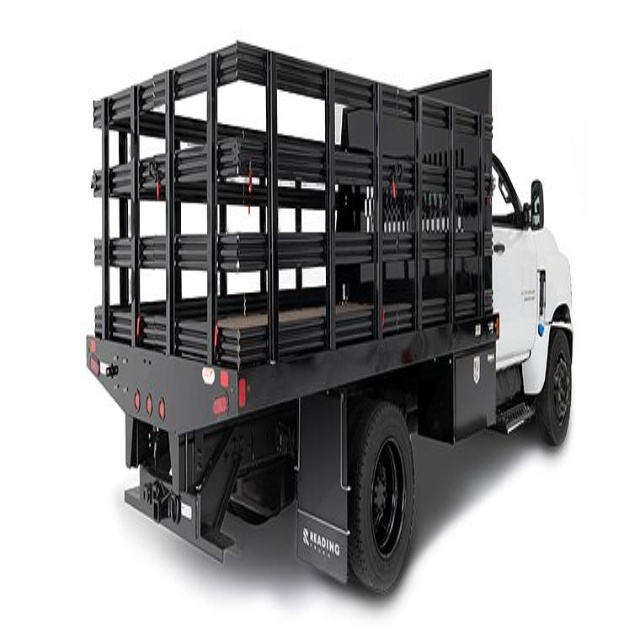Truck: (85, 38, 573, 598)
